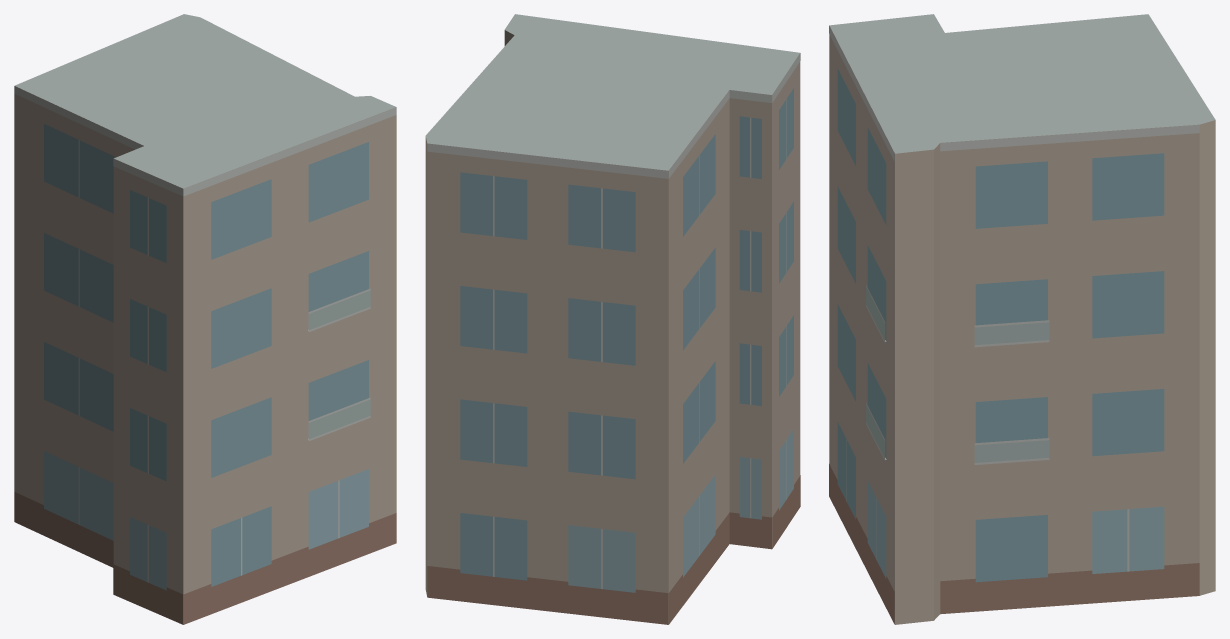
The model's file is survey-upis-32472305.glb.
The picture shows the model from 3 angles, left to right: view 1: azimuth 30°, elevation 25°; view 2: azimuth 150°, elevation 25°; view 3: azimuth 270°, elevation 25°; orthographic projection. The views are drawn at different scales.
Parts seen in each view (by area): view 1: survey-upis-32472305.tmp; view 2: survey-upis-32472305.tmp; view 3: survey-upis-32472305.tmp.
Boxes of the visible parts, x1=… form: survey-upis-32472305.tmp: x1=14, y1=14, x2=396, y2=624; survey-upis-32472305.tmp: x1=425, y1=14, x2=800, y2=624; survey-upis-32472305.tmp: x1=829, y1=14, x2=1215, y2=624.
Size of the model in its own units: 8.67 by 13.63 by 10.14.
